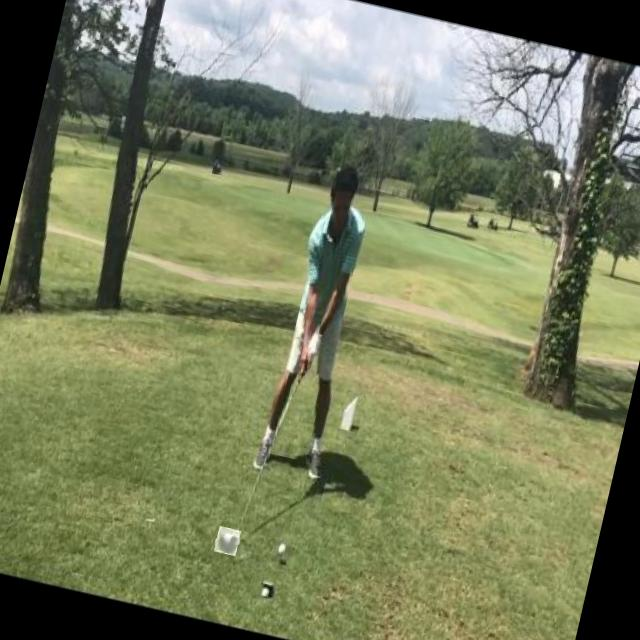club head: (213, 526, 240, 556)
